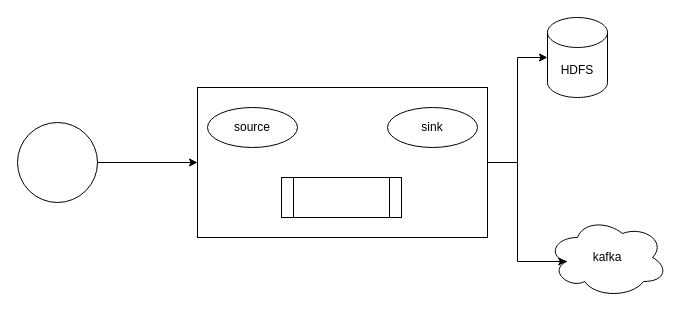
Image size: 685x315. Some labels were removed from this diagram. Each missing label, with the box of its shape:
channel: (280, 176, 402, 218)
darta: (16, 122, 98, 202)
